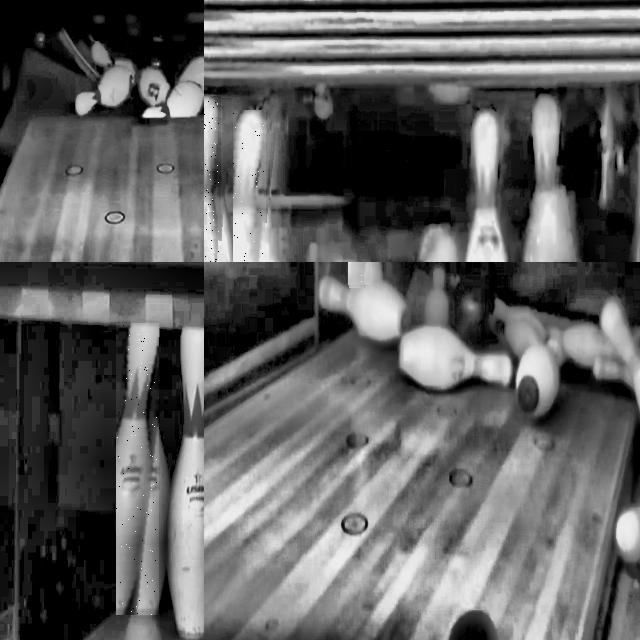bowling-pins: (116, 323, 159, 615), (167, 326, 204, 639), (525, 94, 576, 262), (466, 110, 509, 262), (234, 110, 264, 262), (204, 96, 219, 262)
